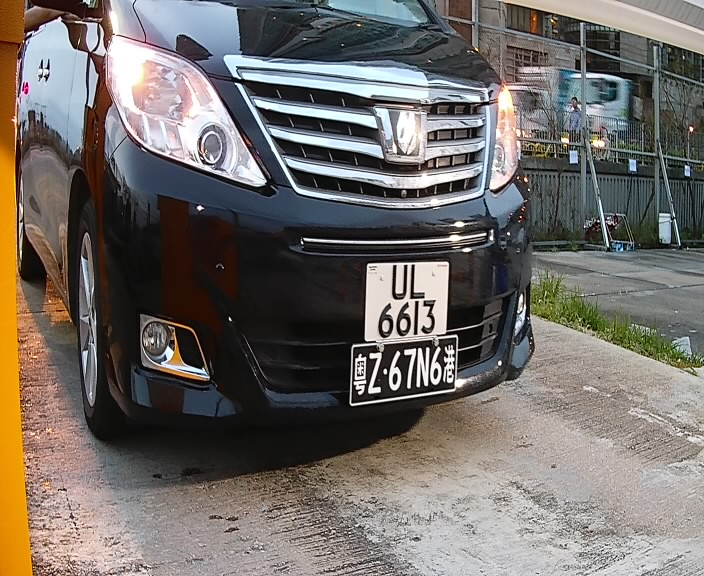Car: (22, 2, 536, 480)
License Plate: (357, 257, 463, 362)
